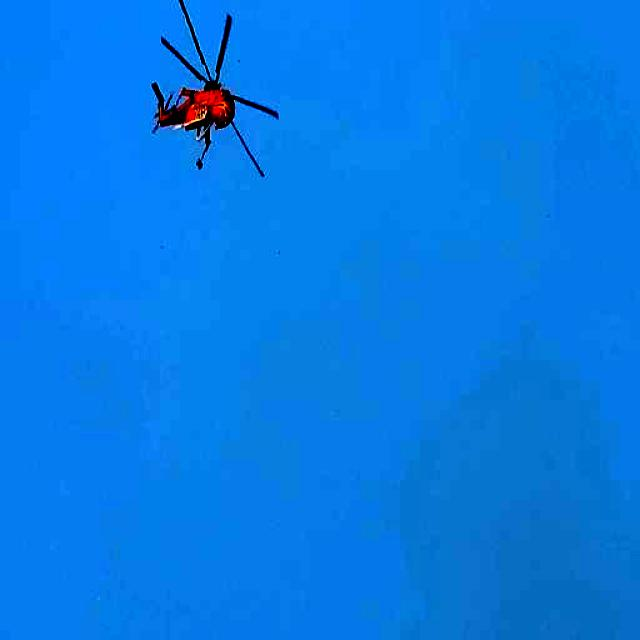drone: (139, 0, 284, 199)
